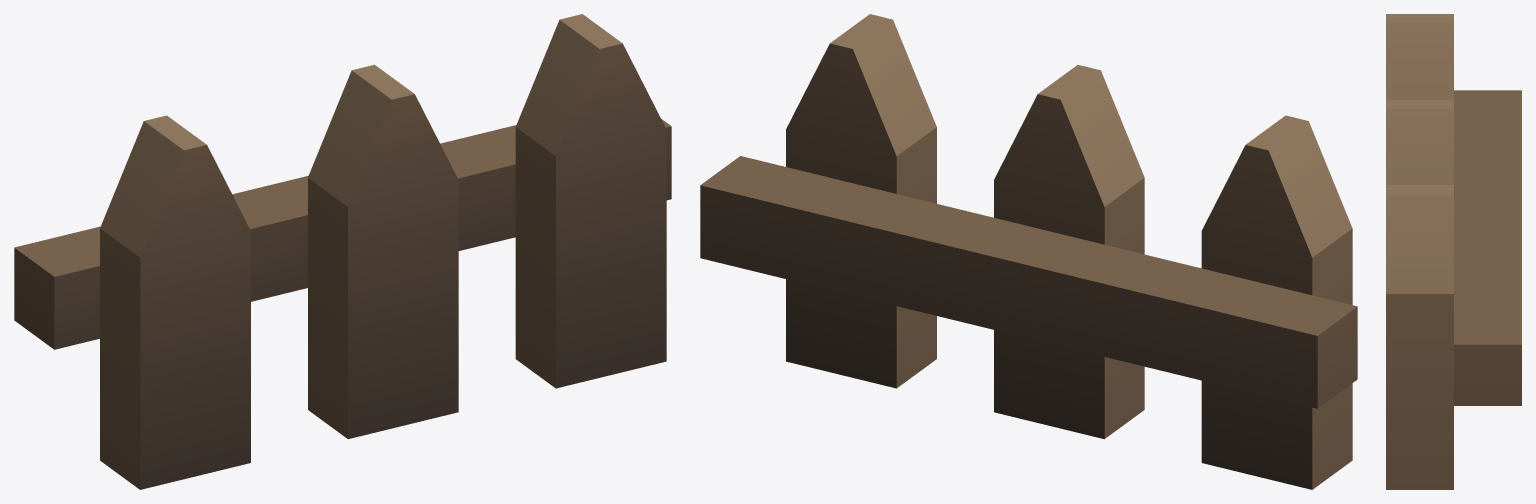
File: Fence_2.fbx
The picture shows the model from 3 angles, left to right: view 1: azimuth 30°, elevation 25°; view 2: azimuth 150°, elevation 25°; view 3: azimuth 270°, elevation 25°; orthographic projection. The views are drawn at different scales.
Visible parts, largest first — view 1: Fence_2; view 2: Fence_2; view 3: Fence_2.
Boxes of the visible parts, <box> form: Fence_2: <box>14,14,671,489</box>; Fence_2: <box>700,14,1357,489</box>; Fence_2: <box>1386,14,1521,489</box>.
Size of the model in its own units: 322 by 164 by 72.63.
